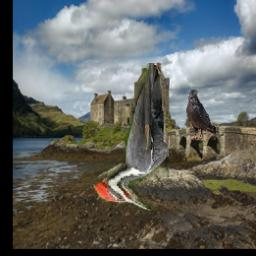Crow: (186, 89, 216, 141)
Woodpecker: (94, 64, 170, 211)
